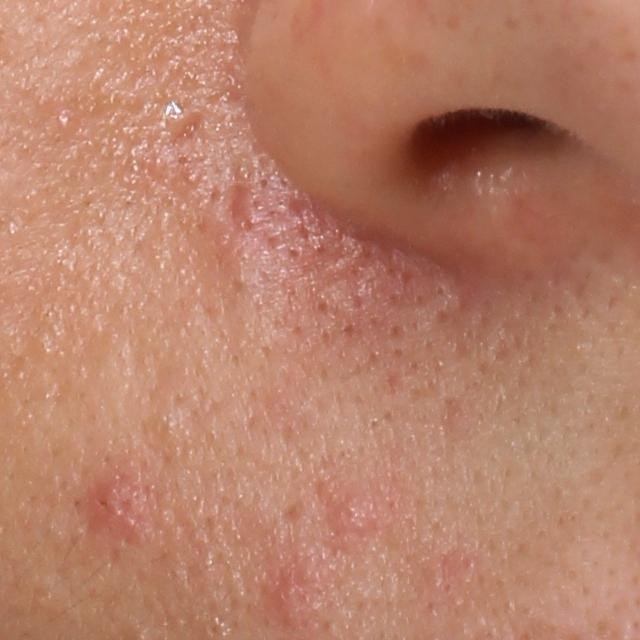atrophic_scar: (222, 174, 249, 235), (172, 112, 207, 156)
papule: (93, 478, 155, 537), (326, 493, 375, 539)
